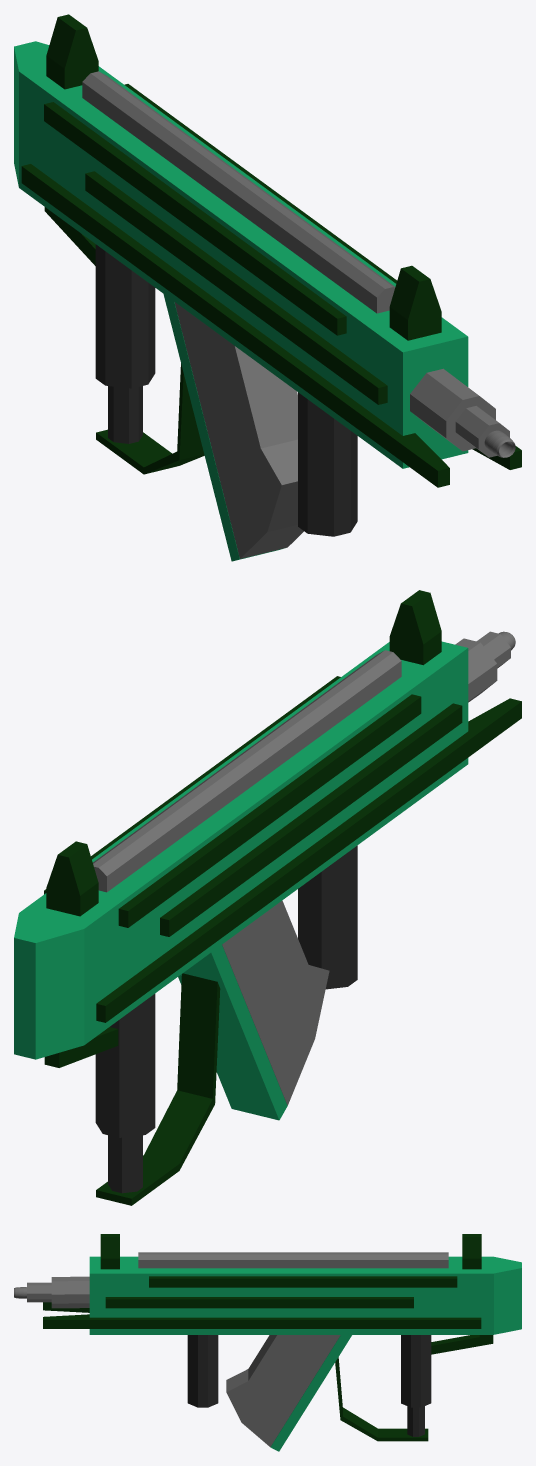
The model's file is Weapon00-Burst.fbx.
The picture shows the model from 3 angles, top to bottom: view 1: azimuth 30°, elevation 25°; view 2: azimuth 150°, elevation 25°; view 3: azimuth 270°, elevation 25°; orthographic projection. The views are drawn at different scales.
Visible parts, largest first — view 1: Cube.019; view 2: Cube.019; view 3: Cube.019.
Boxes of the visible parts, x1=… form: Cube.019: x1=14, y1=14, x2=521, y2=561; Cube.019: x1=14, y1=590, x2=521, y2=1205; Cube.019: x1=14, y1=1234, x2=521, y2=1451.
Size of the model in its own units: 20.22 by 91.7 by 201.
